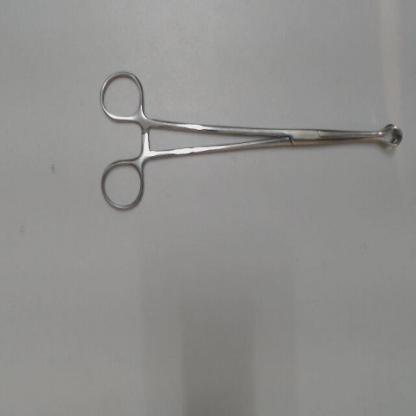8 Babcock Tissue Forceps: (95, 64, 411, 218)
